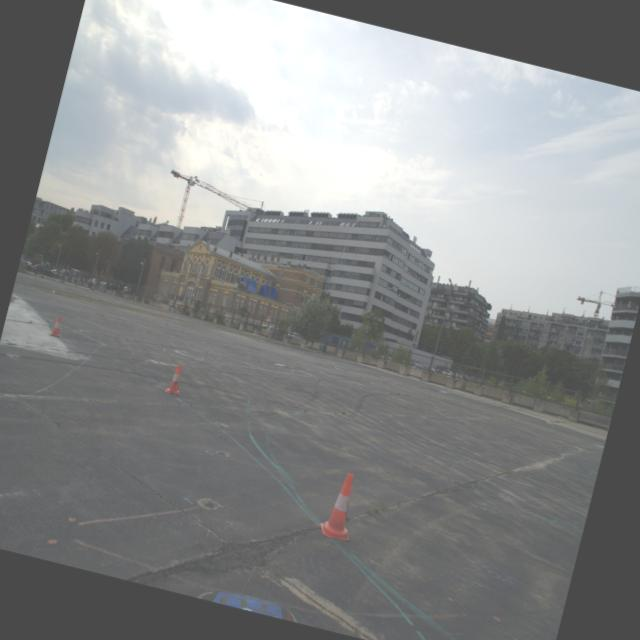orange_cone: (318, 468, 366, 542), (164, 362, 187, 396), (48, 313, 66, 338)
